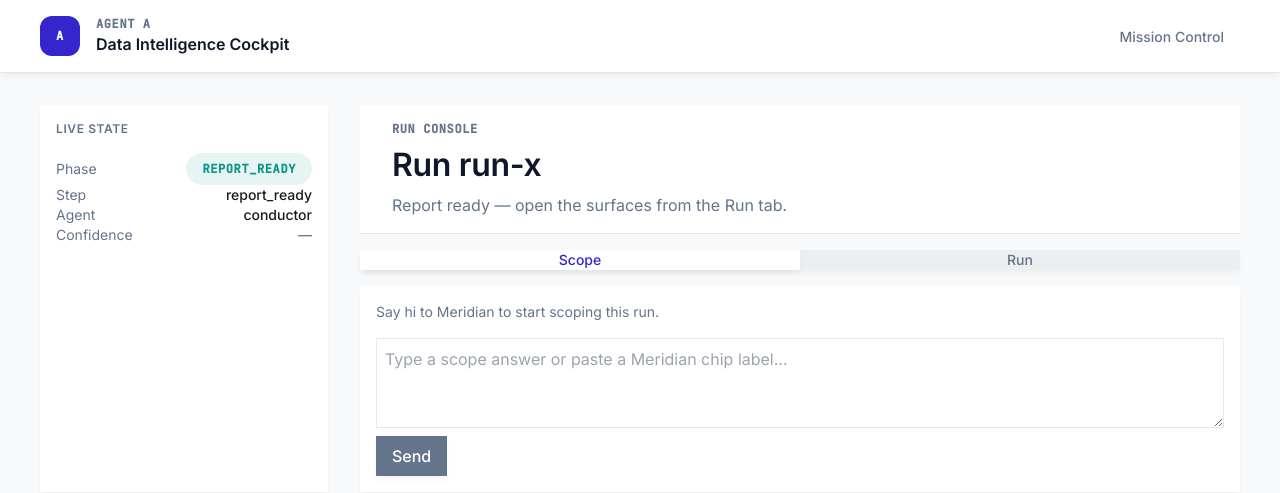
Scenario: RunConsole › renders the report links when phase is report_ready
What coordinates should you click on to do the following:
click the tab "Run"
I would click on:
 (1020, 260)
Its box is [800,250,1240,270].
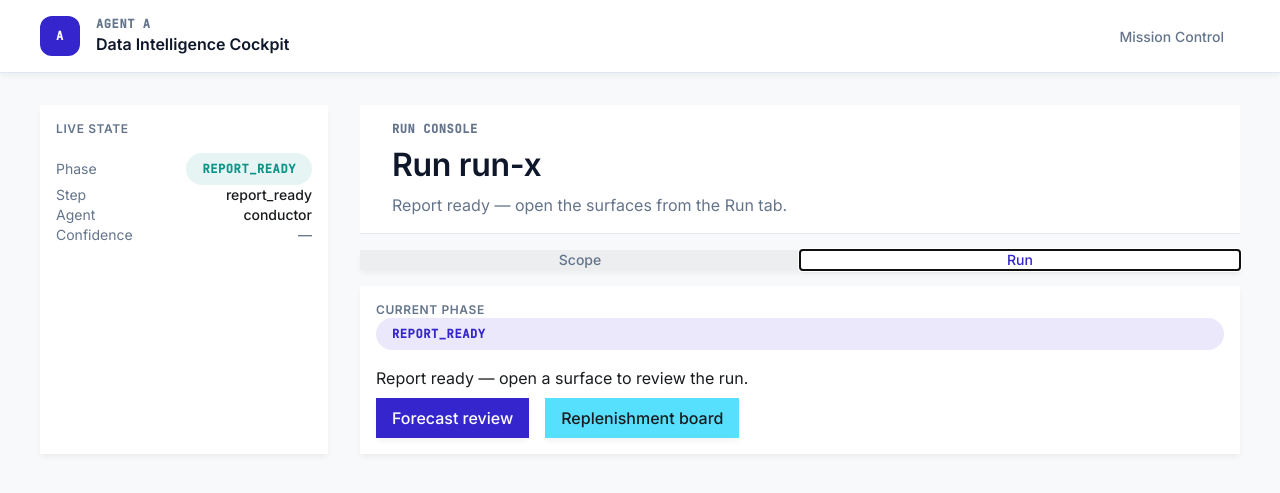
Check: the element with test id "report-links" shows "Forecast review", box [376,398,529,438]
Check: the element with test id "report-links" shows "replenishment board", box [545,398,740,438]
